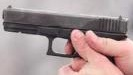pistol: (1, 1, 133, 75)
